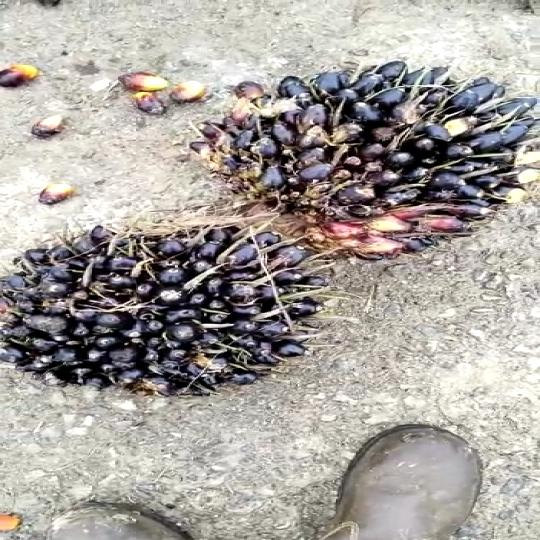mentah: (173, 59, 540, 268), (0, 197, 309, 410)
